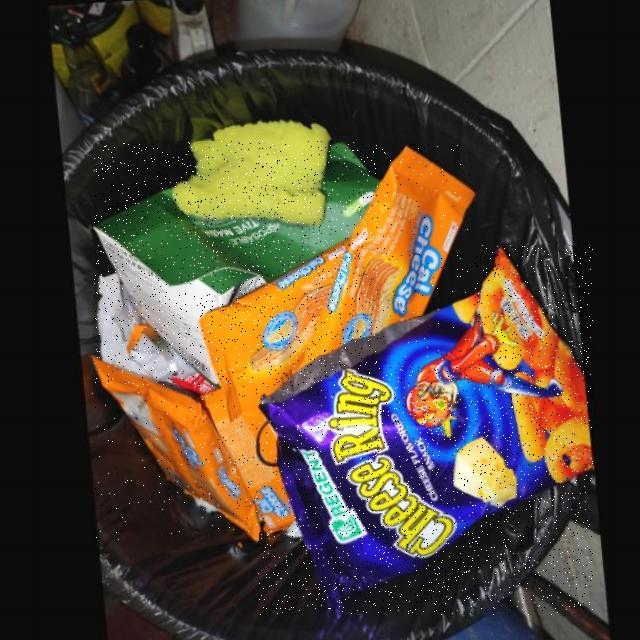paper: (93, 142, 378, 386)
wrapper: (258, 245, 593, 615), (301, 145, 474, 365), (91, 356, 259, 541), (199, 238, 351, 421), (200, 388, 295, 533)
